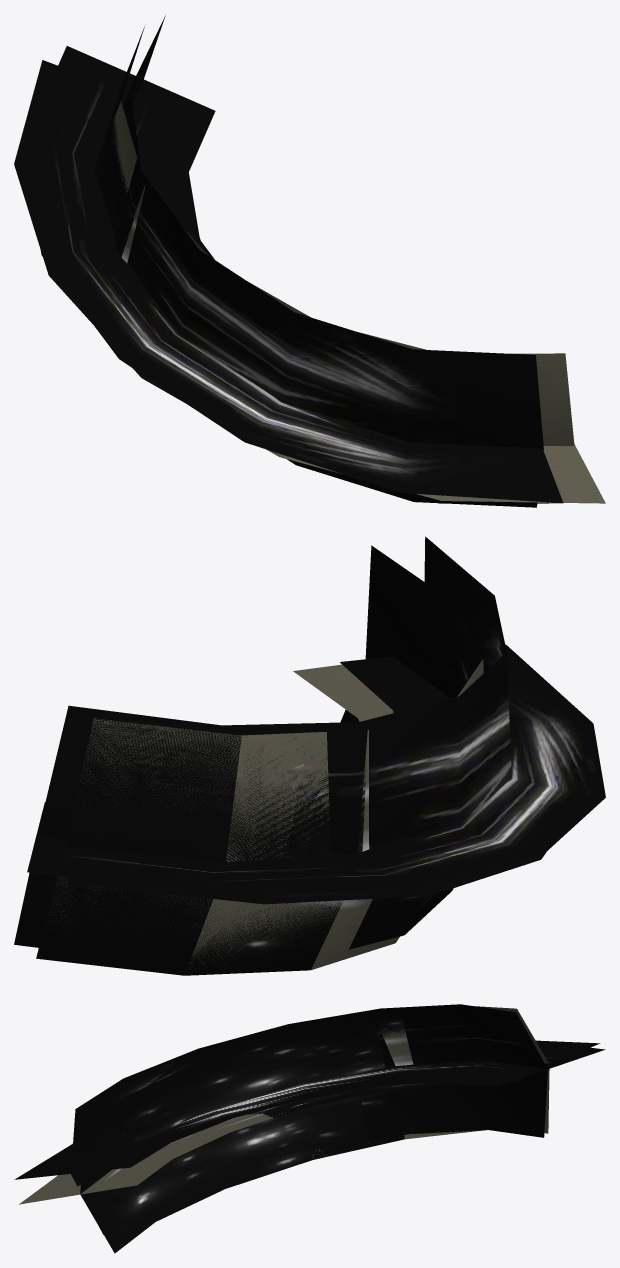
The model's file is Effect_2305attack.fbx.
The picture shows the model from 3 angles, top to bottom: view 1: azimuth 30°, elevation 25°; view 2: azimuth 150°, elevation 25°; view 3: azimuth 270°, elevation 25°; orthographic projection. The views are drawn at different scales.
Parts seen in each view (by area): view 1: Effect_1001tattack03, Effect_1001tattack01, Effect_1001tattack02; view 2: Effect_1001tattack03, Effect_1001tattack02, Effect_1001tattack01; view 3: Effect_1001tattack02, Effect_1001tattack03, Effect_1001tattack01.
Part boxes in pixels (x1=…): Effect_1001tattack03: x1=23, y1=15, x2=563, y2=507; Effect_1001tattack01: x1=113, y1=101, x2=605, y2=503; Effect_1001tattack02: x1=14, y1=26, x2=290, y2=459; Effect_1001tattack03: x1=14, y1=536, x2=605, y2=949; Effect_1001tattack02: x1=36, y1=545, x2=546, y2=975; Effect_1001tattack01: x1=45, y1=659, x2=483, y2=972; Effect_1001tattack02: x1=80, y1=1011, x2=600, y2=1253; Effect_1001tattack03: x1=14, y1=1004, x2=605, y2=1234; Effect_1001tattack01: x1=19, y1=1006, x2=549, y2=1204.
Size of the model in its own units: 1.72 by 1.6 by 4.16.
Materials: 3 (3 with a texture image).
